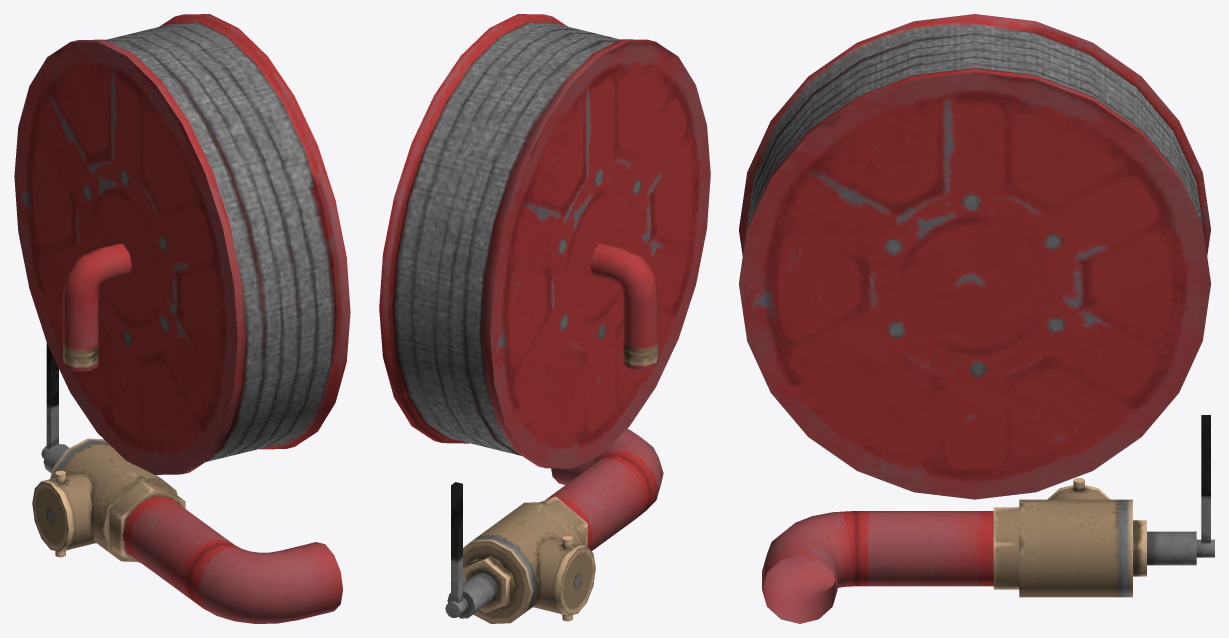
Rendered from HH_Fire_Hose.fbx.
3 renders of one model, left to right at view 1: azimuth 30°, elevation 25°; view 2: azimuth 150°, elevation 25°; view 3: azimuth 270°, elevation 25°, orthographic. The views are drawn at different scales.
Visible parts, largest first — view 1: HH_Fire_Hose_LOD0; view 2: HH_Fire_Hose_LOD0; view 3: HH_Fire_Hose_LOD0.
Part boxes in pixels (x1,y1,x2,y2): HH_Fire_Hose_LOD0: (14,14,350,623); HH_Fire_Hose_LOD0: (379,14,710,623); HH_Fire_Hose_LOD0: (739,14,1214,623).
Size of what is drawn, in the model's own units: 15.33 by 44.47 by 34.17.
